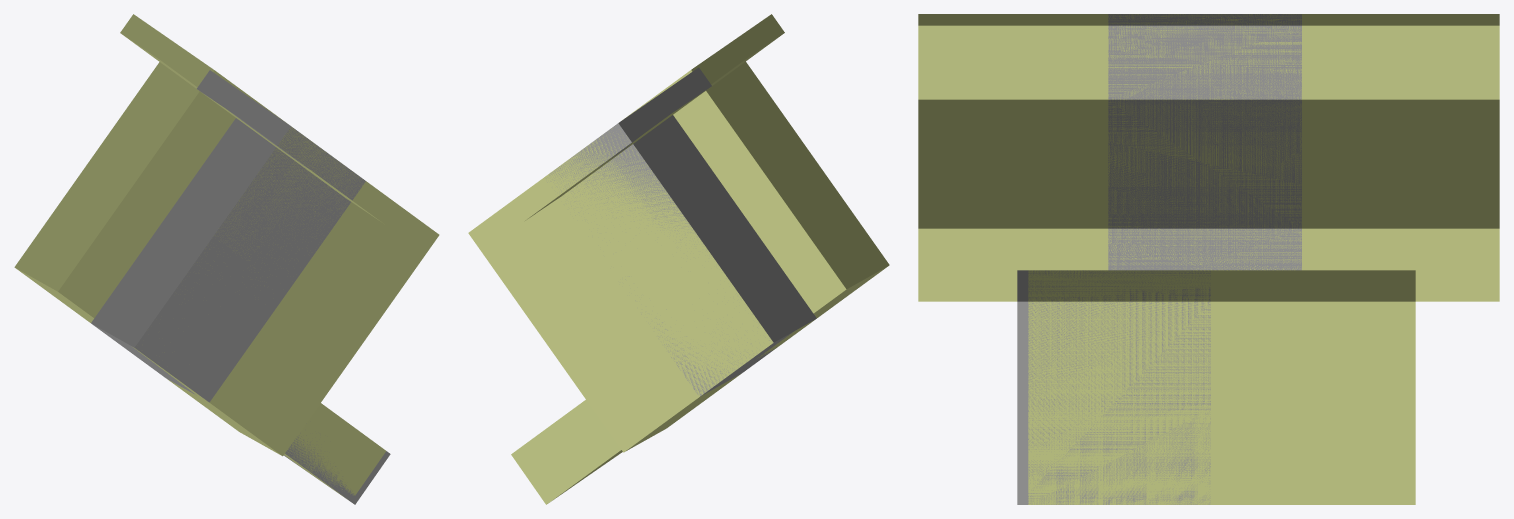
The picture shows the model from 3 angles, left to right: view 1: azimuth 30°, elevation 25°; view 2: azimuth 150°, elevation 25°; view 3: azimuth 270°, elevation 25°; orthographic projection. The views are drawn at different scales.
Visible parts, largest first — view 1: 0_1_2_0_3_0_2_2_0; view 2: 0_1_2_0_3_0_2_2_0; view 3: 0_1_2_0_3_0_2_2_0.
Part boxes in pixels (x1,y1,x2,y2): 0_1_2_0_3_0_2_2_0: [14, 14, 439, 504]; 0_1_2_0_3_0_2_2_0: [468, 14, 889, 504]; 0_1_2_0_3_0_2_2_0: [918, 14, 1499, 504].
Bounding box in the file's own units: 4.63 × 8.01 × 9.
